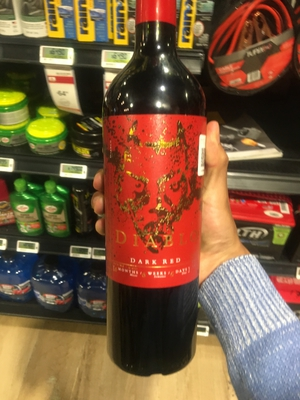diablo dark red: (91, 8, 222, 361)
